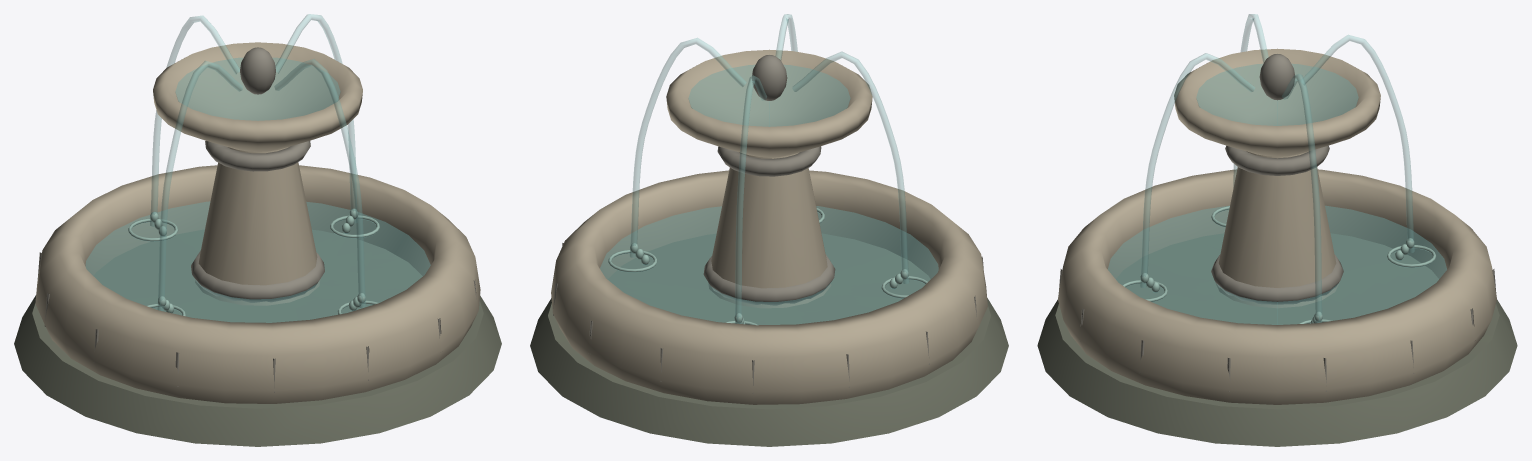
Rendered from fuente.glb.
3 views of the same model, side by side, from view 1: azimuth 30°, elevation 25°; view 2: azimuth 150°, elevation 25°; view 3: azimuth 270°, elevation 25° (orthographic).
Visible parts, largest first — view 1: fuente, fu_chorros; view 2: fuente, fu_chorros; view 3: fuente, fu_chorros.
Boxes of the visible parts, box(x1,y1,x2,y2) form: fuente: box(14, 42, 501, 446); fu_chorros: box(150, 14, 365, 313); fuente: box(530, 49, 1008, 446); fu_chorros: box(630, 14, 909, 324); fuente: box(1037, 48, 1517, 446); fu_chorros: box(1140, 14, 1414, 323).
Size of the model in its own units: 1.88 by 1.3 by 1.88.
